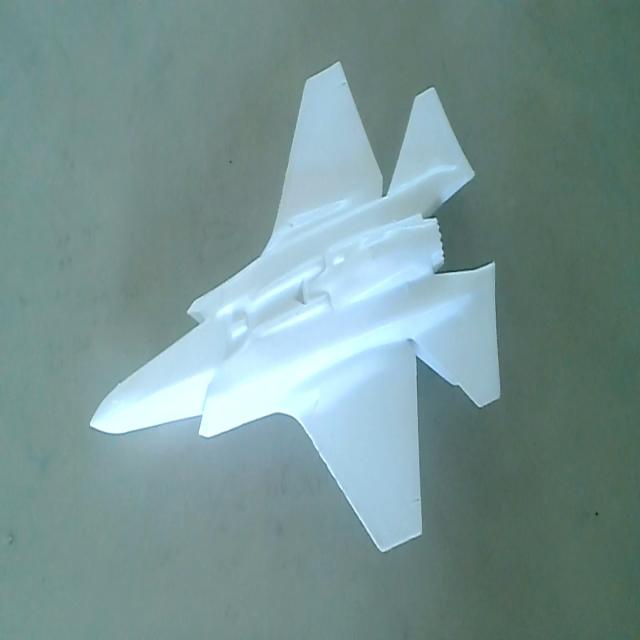Jet: (88, 52, 504, 562)
